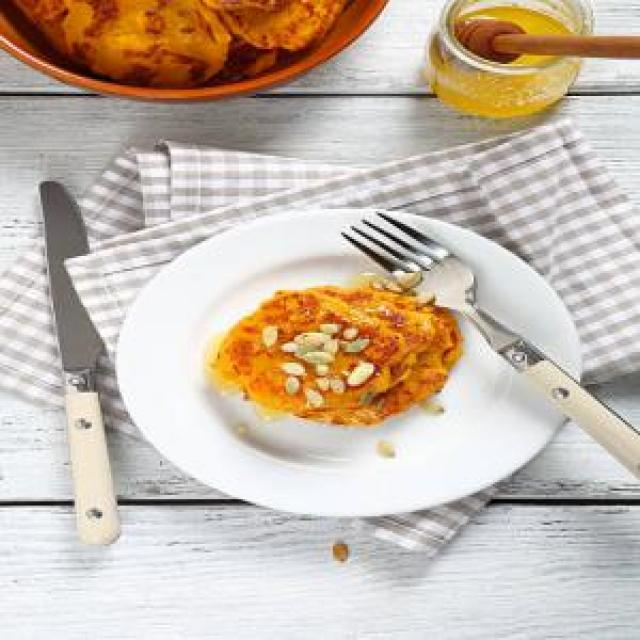knife: (26, 175, 121, 549)
